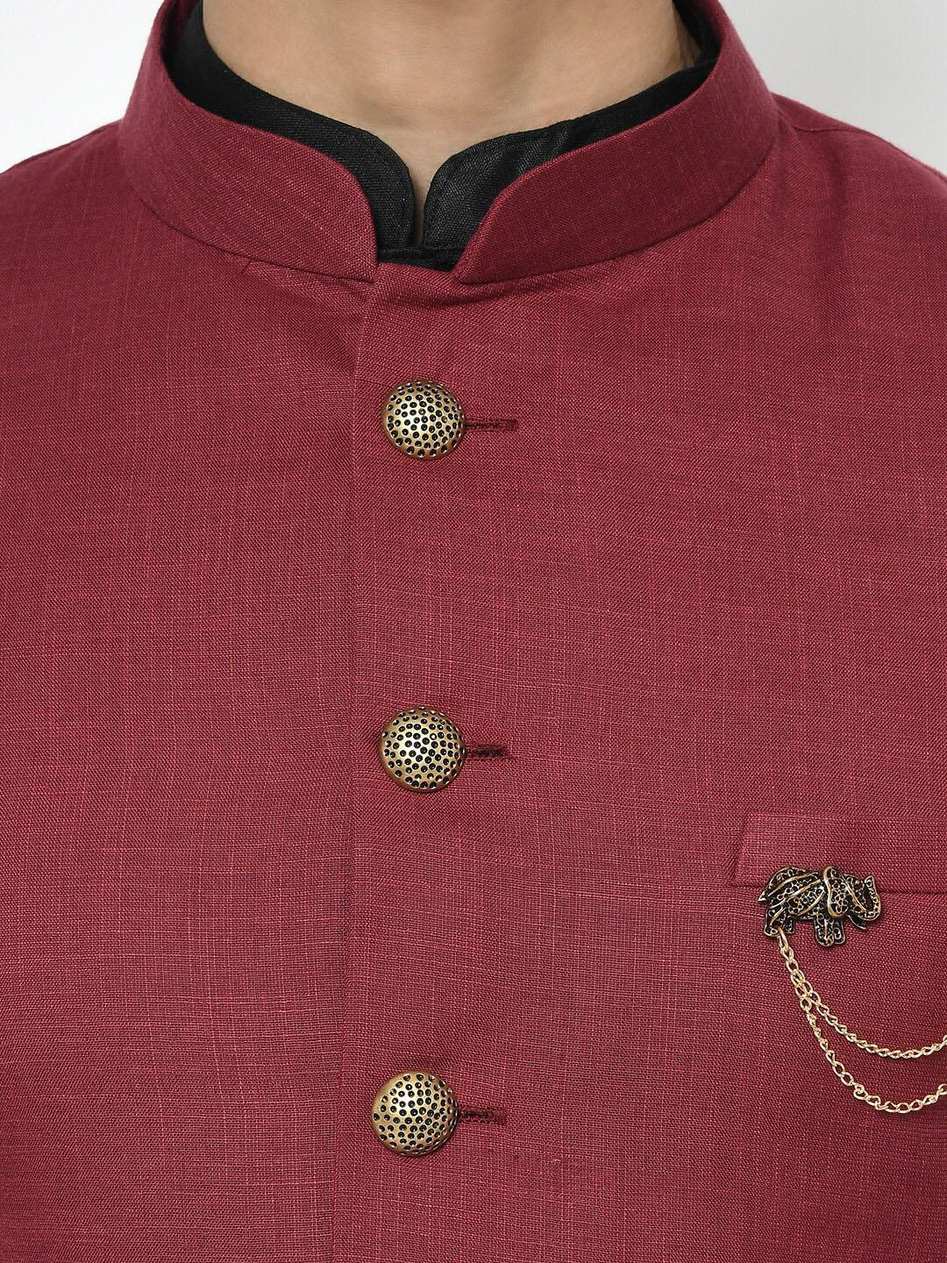Plain Sherwani: (3, 1, 943, 1260)
